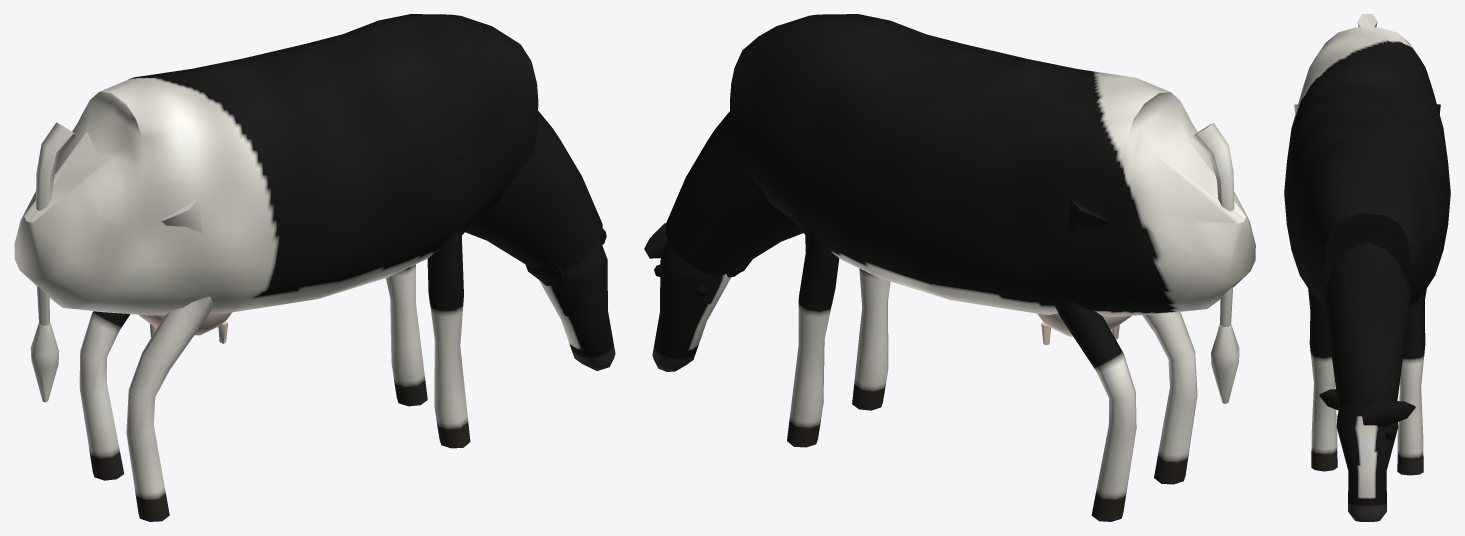
The model's file is tpl_life_herd_1970_cattle_fh_graze.glb.
3 renders of one model, left to right at view 1: azimuth 30°, elevation 25°; view 2: azimuth 150°, elevation 25°; view 3: azimuth 270°, elevation 25°, orthographic. The views are drawn at different scales.
Visible parts, largest first — view 1: tpl_life_herd_1970_cattle_fh_graze; view 2: tpl_life_herd_1970_cattle_fh_graze; view 3: tpl_life_herd_1970_cattle_fh_graze.
Boxes of the visible parts, left/top/right/bottom form: tpl_life_herd_1970_cattle_fh_graze: left=14, top=14, right=615, bottom=521; tpl_life_herd_1970_cattle_fh_graze: left=644, top=14, right=1255, bottom=521; tpl_life_herd_1970_cattle_fh_graze: left=1284, top=14, right=1450, bottom=521.
Size of the model in its own units: 2.13 by 1.41 by 0.6588.
2 materials, 1 textured.
